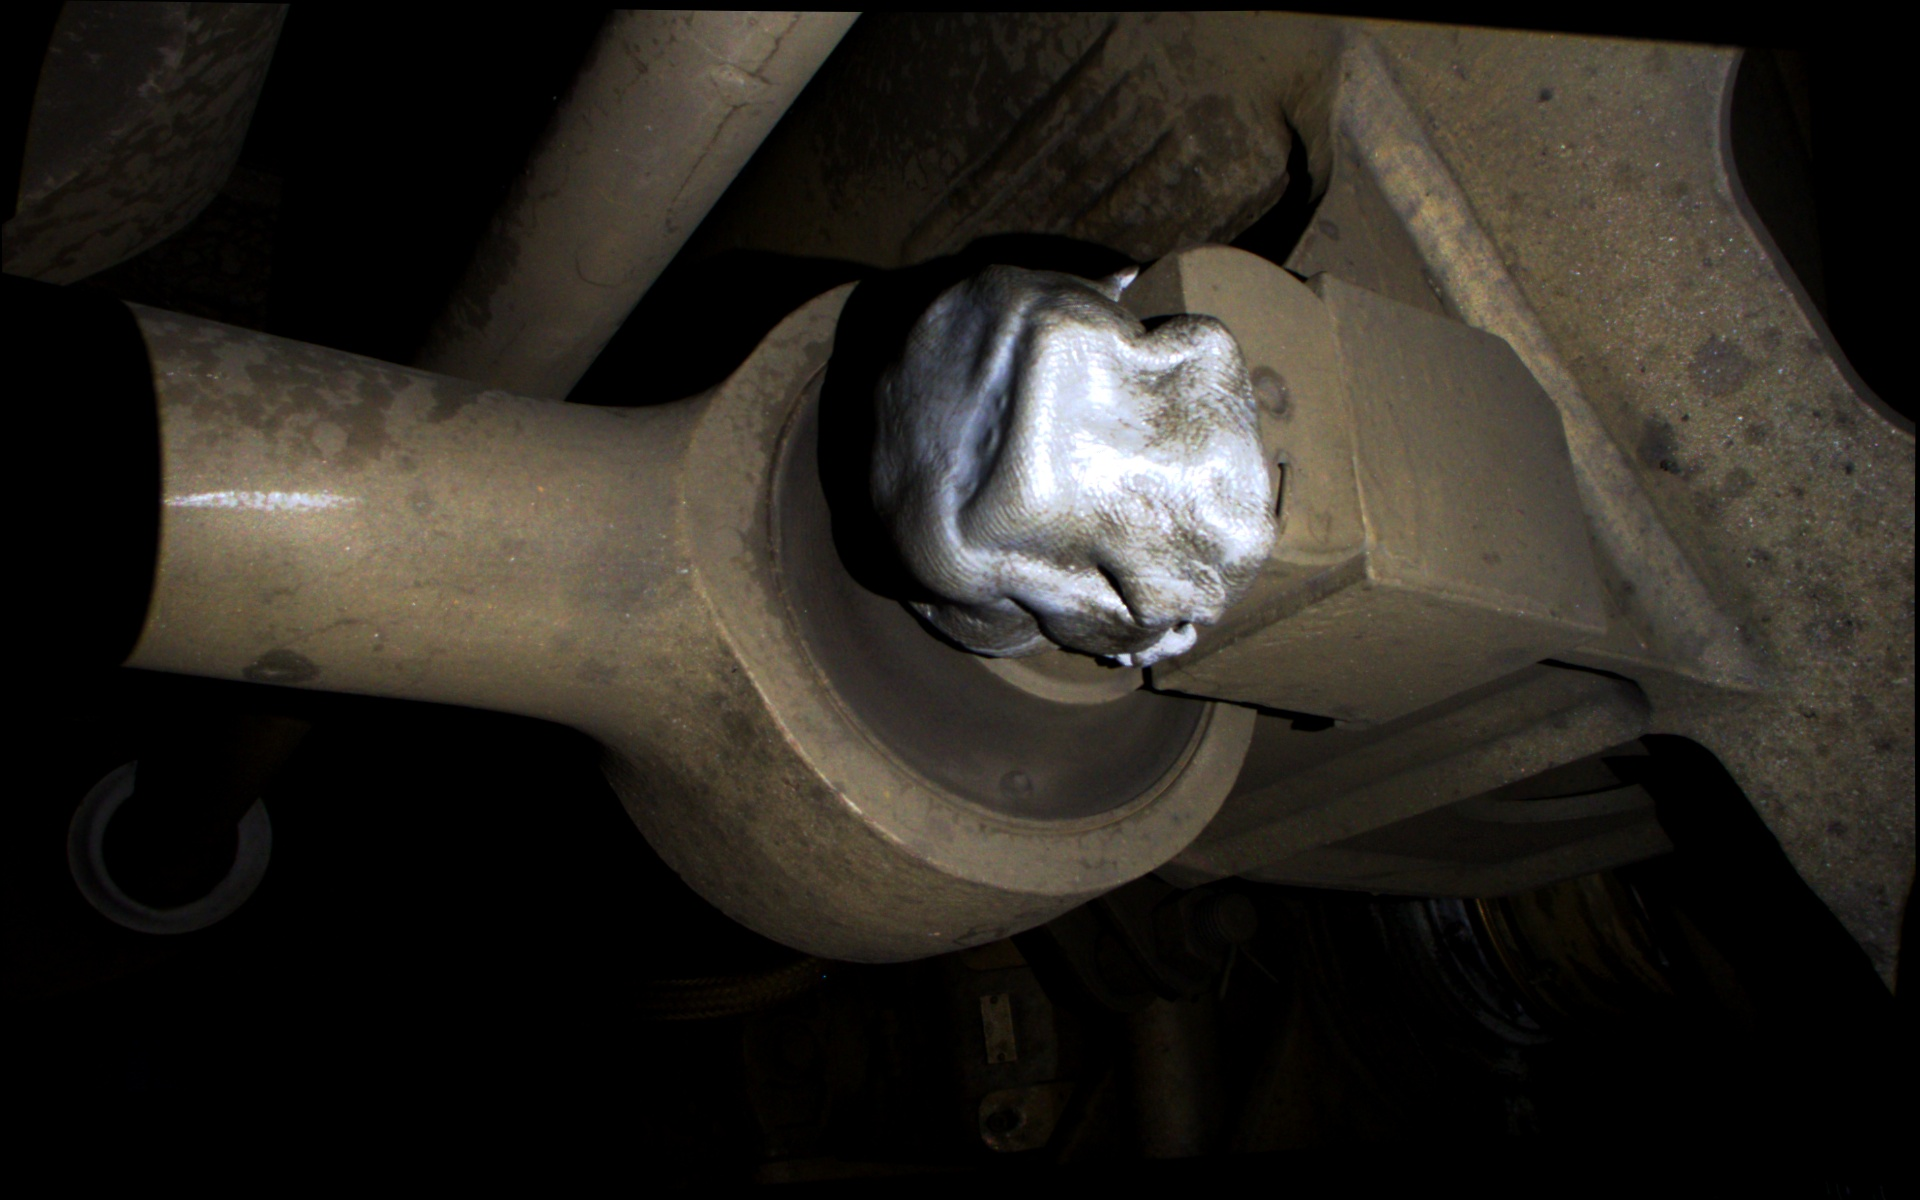bolthead1: (867, 263, 1205, 610)
